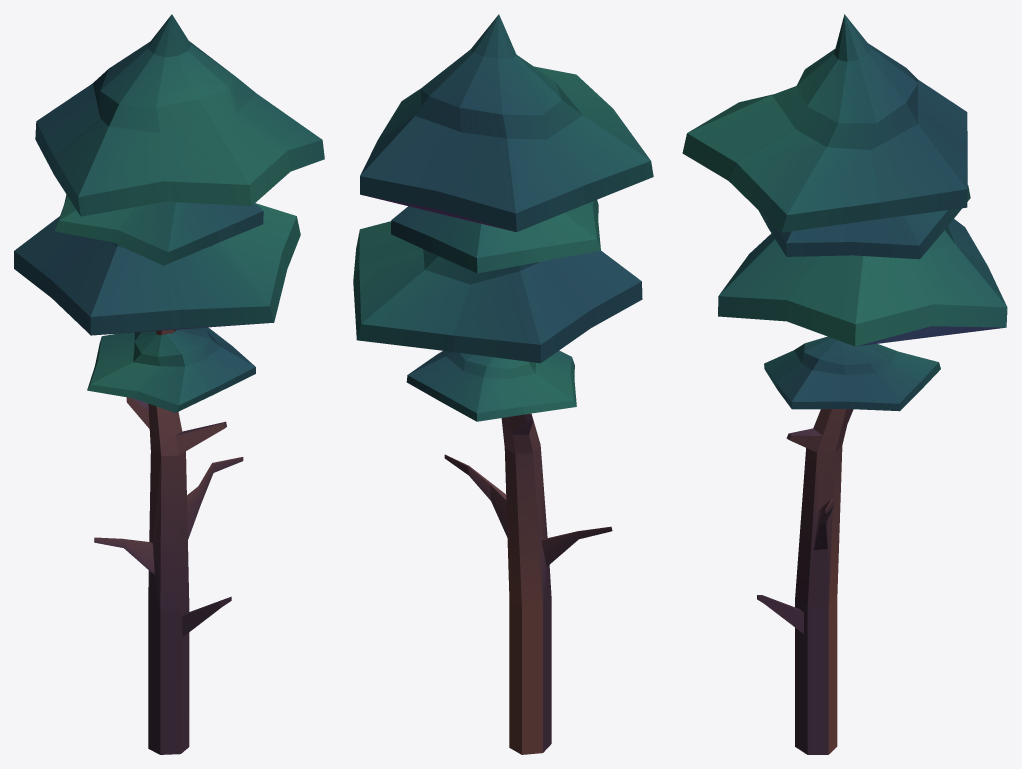
Rendered from Tree_Pine05.fbx.
3 views of the same model, side by side, from view 1: azimuth 30°, elevation 25°; view 2: azimuth 150°, elevation 25°; view 3: azimuth 270°, elevation 25° (orthographic). The views are drawn at different scales.
Visible parts, largest first — view 1: TolTreeTrunk4; view 2: TolTreeTrunk4; view 3: TolTreeTrunk4.
Boxes of the visible parts, <box> form: TolTreeTrunk4: <box>14,14,324,754</box>; TolTreeTrunk4: <box>353,14,653,754</box>; TolTreeTrunk4: <box>682,14,1007,754</box>.
Bounding box in the file's own units: 239 × 645 × 256.
